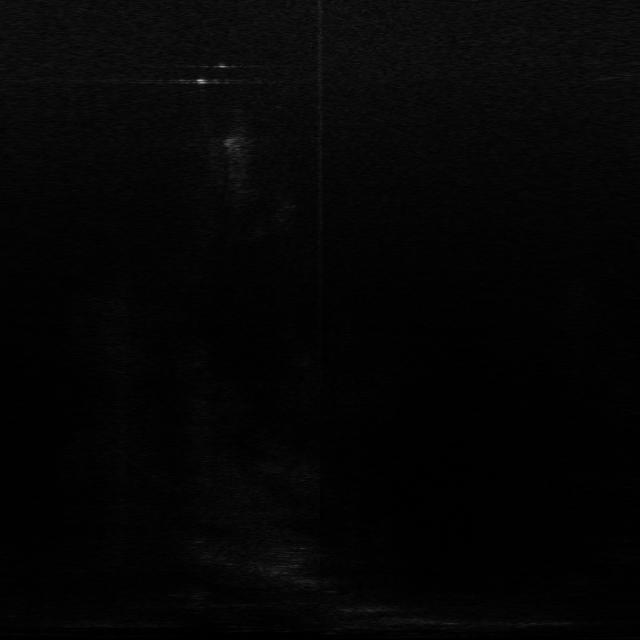rov: (218, 131, 253, 157)
